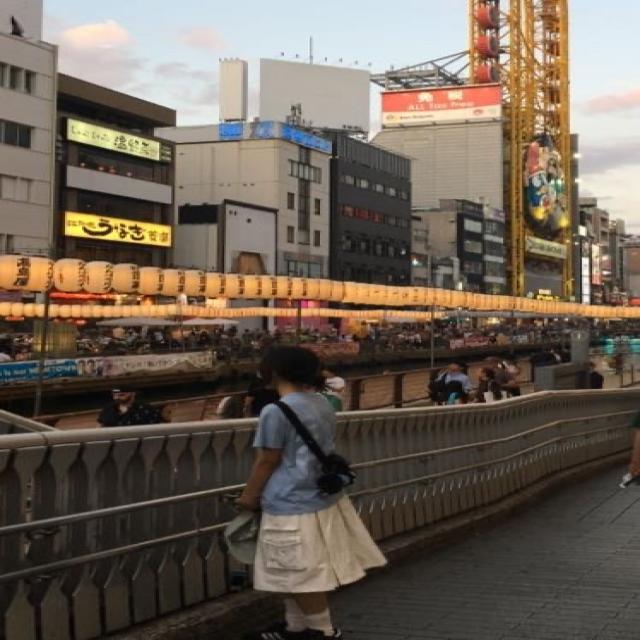shortsleeve: (247, 393, 350, 516)
skirt: (250, 496, 386, 594)
